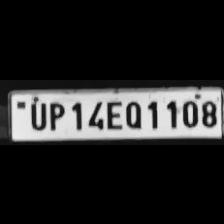0: (179, 95, 199, 127)
1: (66, 97, 84, 130), (144, 97, 162, 129), (160, 97, 178, 129)
4: (85, 96, 105, 130)
8: (198, 96, 218, 128)
E: (104, 97, 122, 129)
P: (44, 99, 66, 131)
Q: (122, 97, 144, 129)
U: (26, 98, 46, 130)
